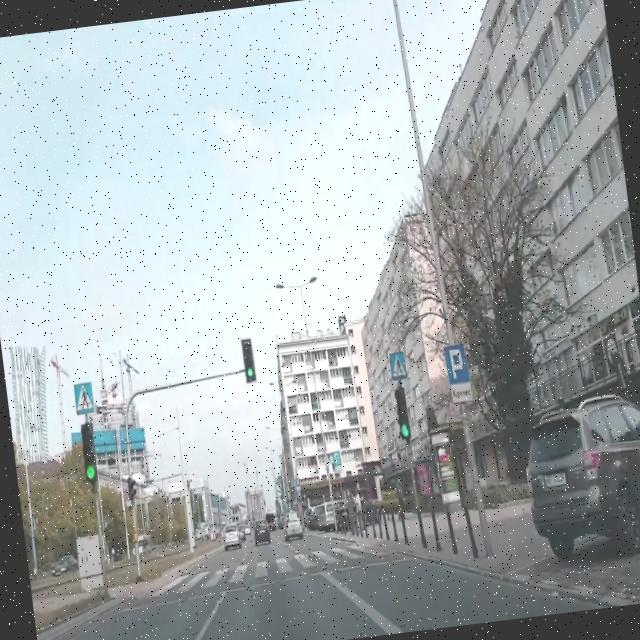Przejscie dla pieszych: (72, 380, 95, 416), (388, 350, 408, 380)
